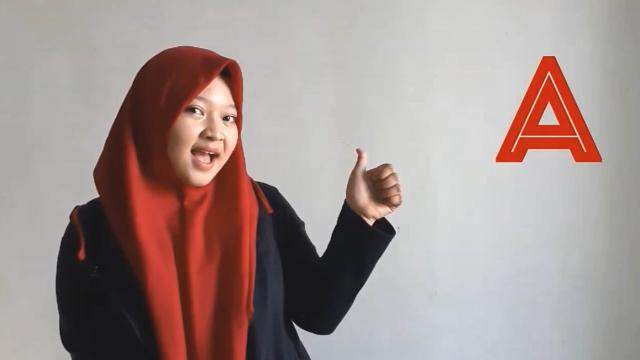A: (342, 146, 404, 220)
